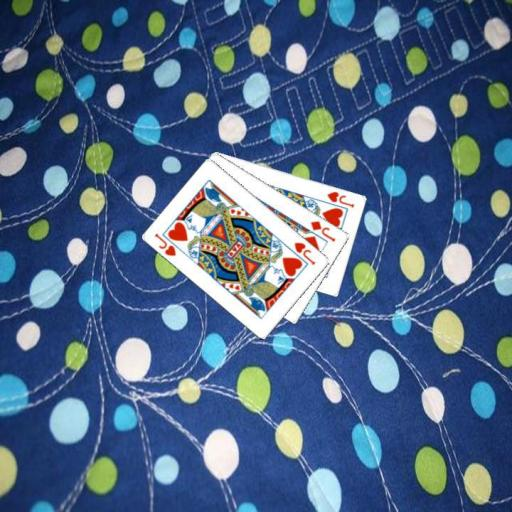JD: (308, 218, 337, 243)
JH: (151, 230, 178, 257), (292, 239, 317, 267), (324, 189, 356, 209)
